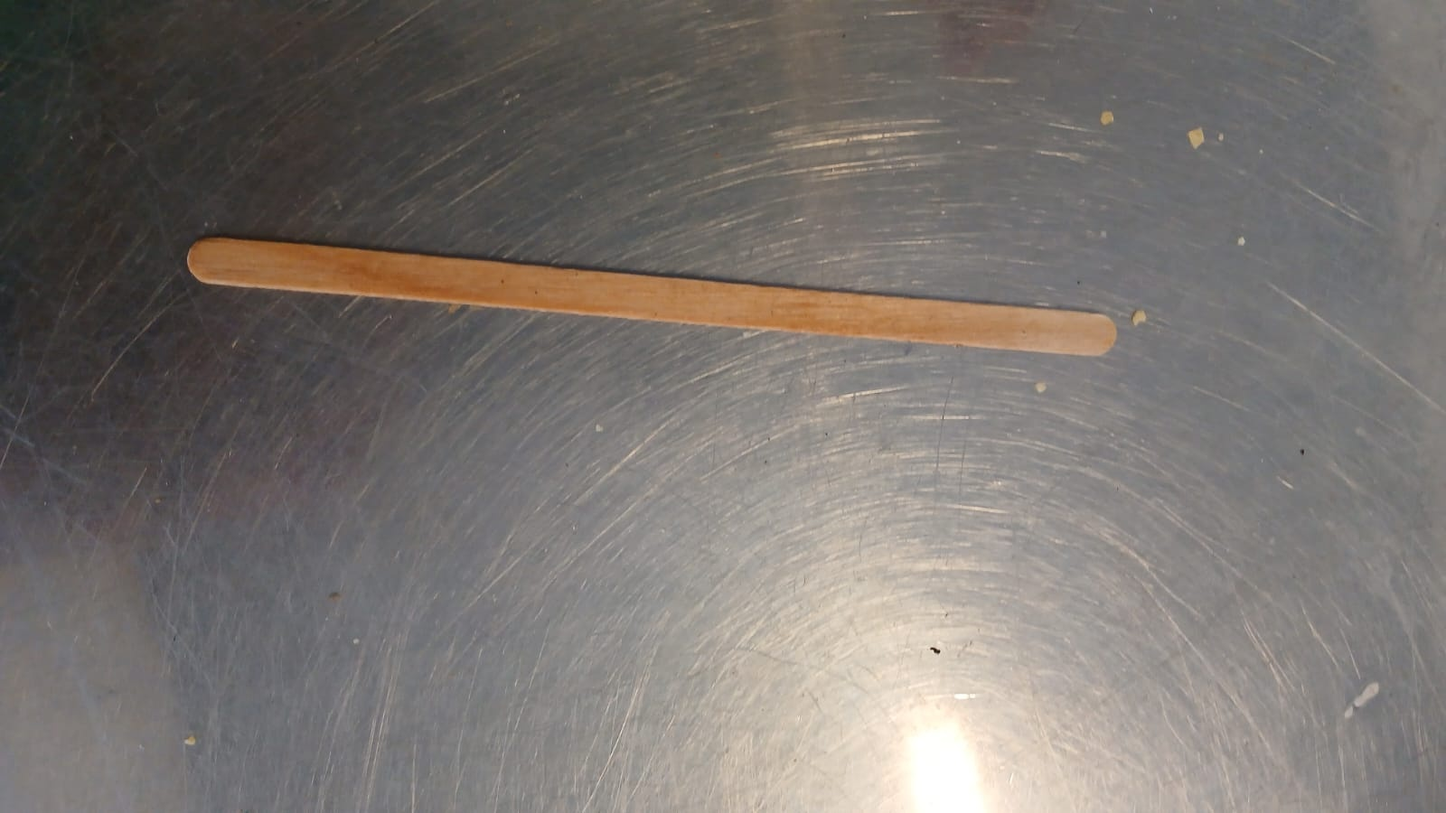Ordinario: (187, 235, 1120, 358)
